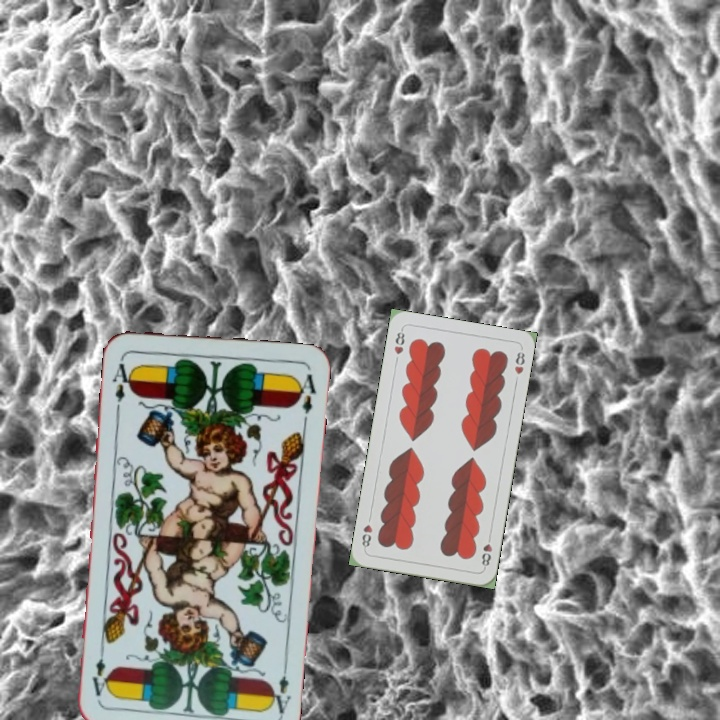EA: (108, 353, 136, 412), (266, 658, 294, 716)
H8: (478, 531, 495, 571), (390, 325, 407, 357)
